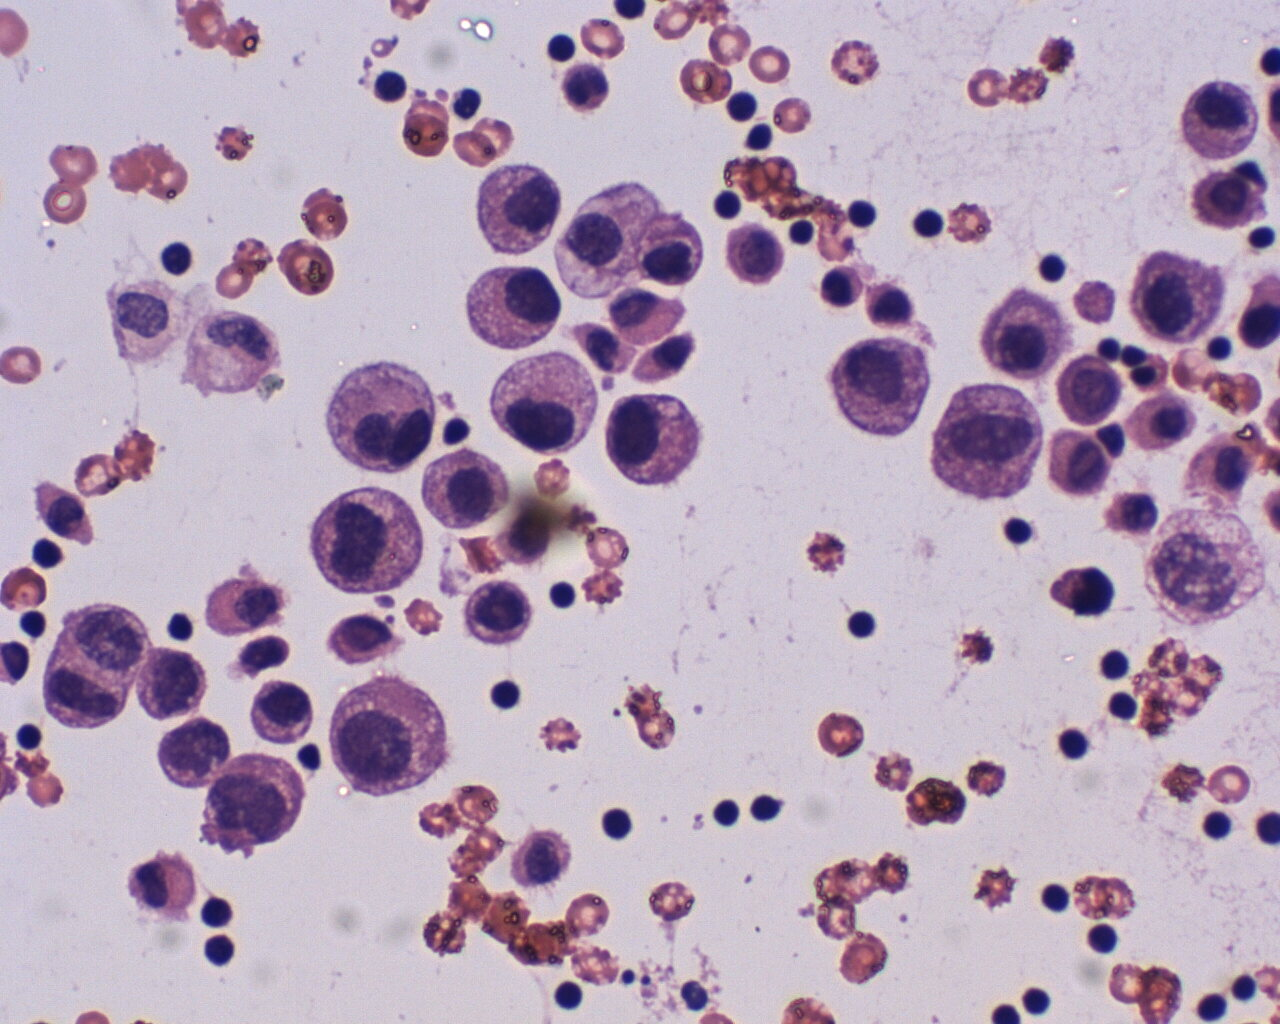ab: (328, 674, 472, 804), (929, 377, 1040, 507), (308, 488, 430, 597), (485, 350, 599, 463), (322, 360, 439, 467), (196, 753, 313, 855), (602, 388, 704, 497), (831, 340, 935, 440), (456, 262, 560, 360), (1172, 72, 1257, 165), (459, 574, 541, 653), (134, 641, 209, 725), (150, 715, 238, 786), (633, 211, 708, 290), (501, 825, 582, 890), (247, 676, 320, 748), (721, 222, 793, 292), (1056, 352, 1118, 423)
lymph: (589, 807, 644, 847), (153, 235, 196, 278), (539, 26, 586, 65), (842, 600, 885, 641), (201, 934, 245, 973)
meso: (1193, 172, 1271, 236), (1127, 391, 1198, 457)
